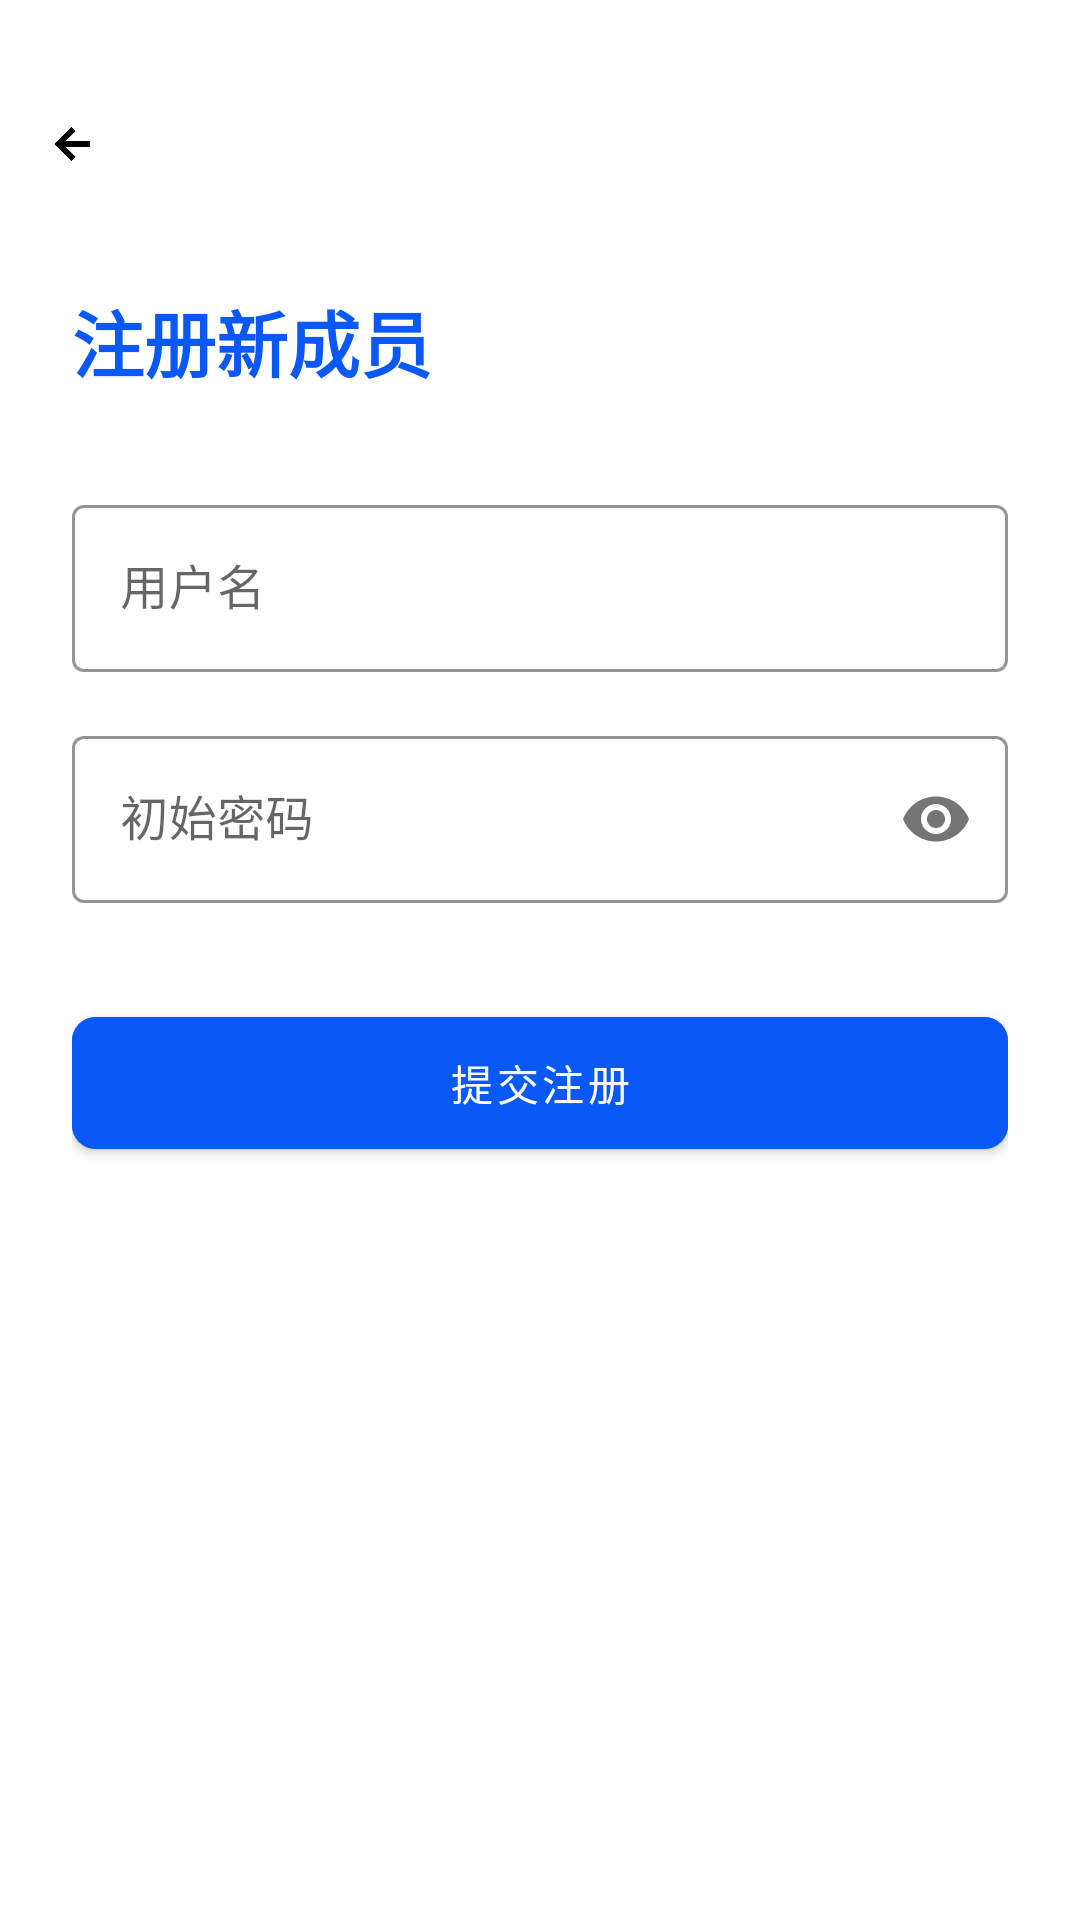

Named icons in this screenshot (1080w x 1920h) and their bounding boxes, region(x1, y1, x2, y2):
back: region(55, 127, 90, 161)
